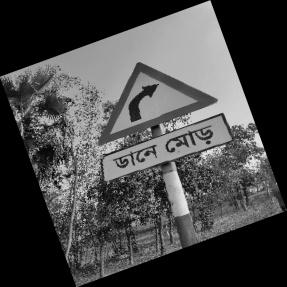Right-turn: (96, 61, 229, 183)
